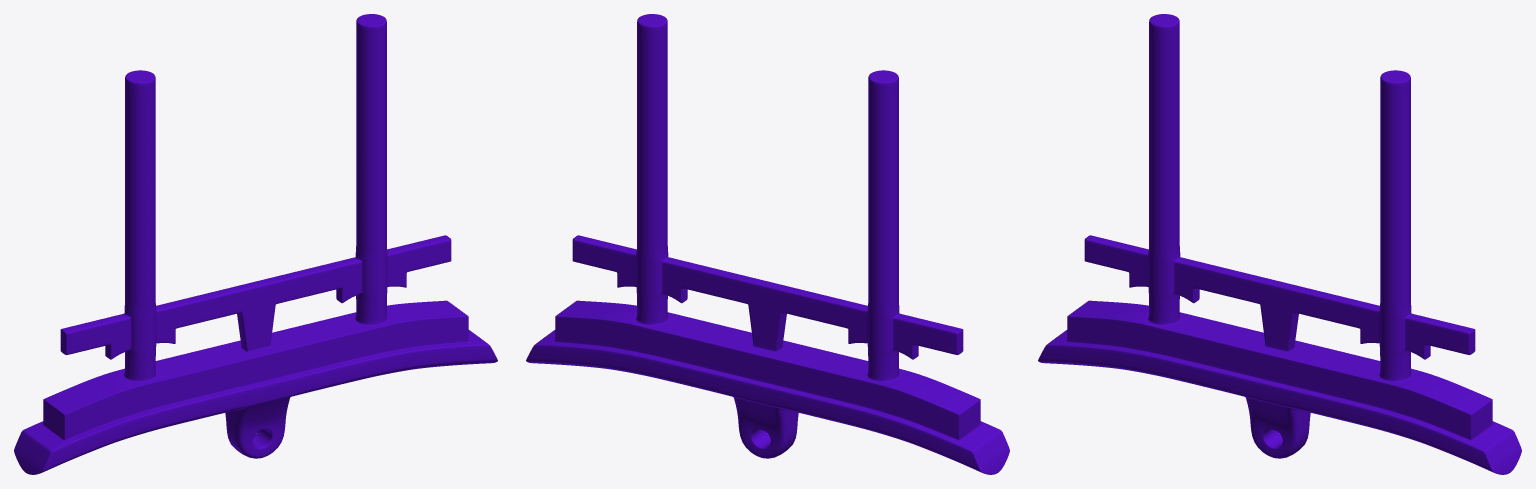
File: gate.obj
3 views of the same model, side by side, from view 1: azimuth 30°, elevation 25°; view 2: azimuth 150°, elevation 25°; view 3: azimuth 330°, elevation 25° (orthographic).
Parts seen in each view (by area): view 1: gate; view 2: gate; view 3: gate.
Part boxes in pixels (left/top/right/bottom): gate: left=14, top=14, right=497, bottom=474; gate: left=526, top=14, right=1009, bottom=474; gate: left=1038, top=14, right=1521, bottom=474.
Size of the model in its own units: 7.19 by 6.06 by 0.8014.
